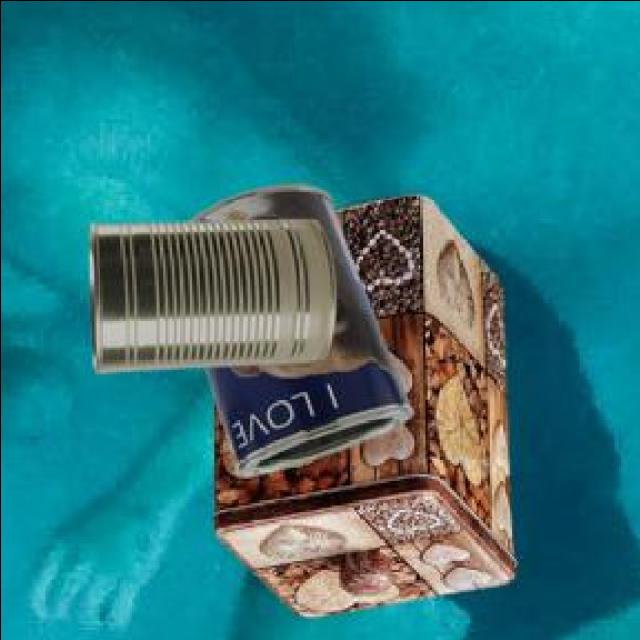logam: (217, 197, 519, 619), (190, 188, 417, 479), (92, 221, 339, 374)
